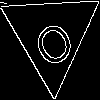O: (26, 10, 78, 71)
